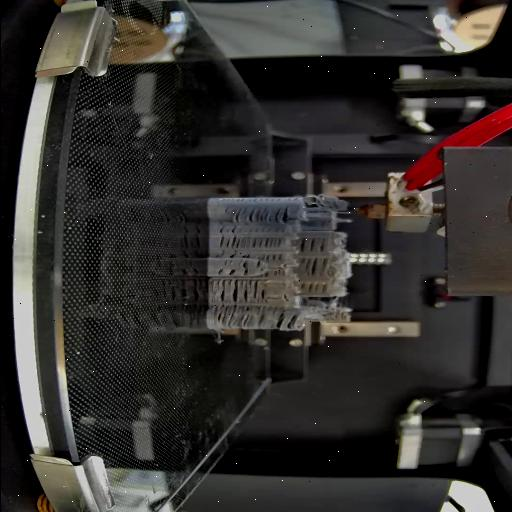cracks: (211, 305, 265, 329), (232, 206, 292, 224), (210, 279, 248, 303), (216, 224, 244, 248), (274, 308, 303, 330), (298, 257, 324, 277), (296, 237, 326, 253), (250, 236, 282, 248), (213, 250, 253, 259), (296, 282, 326, 294), (252, 280, 268, 299), (240, 260, 252, 276), (262, 254, 285, 262), (264, 269, 285, 277), (215, 268, 235, 276), (254, 259, 261, 269)
